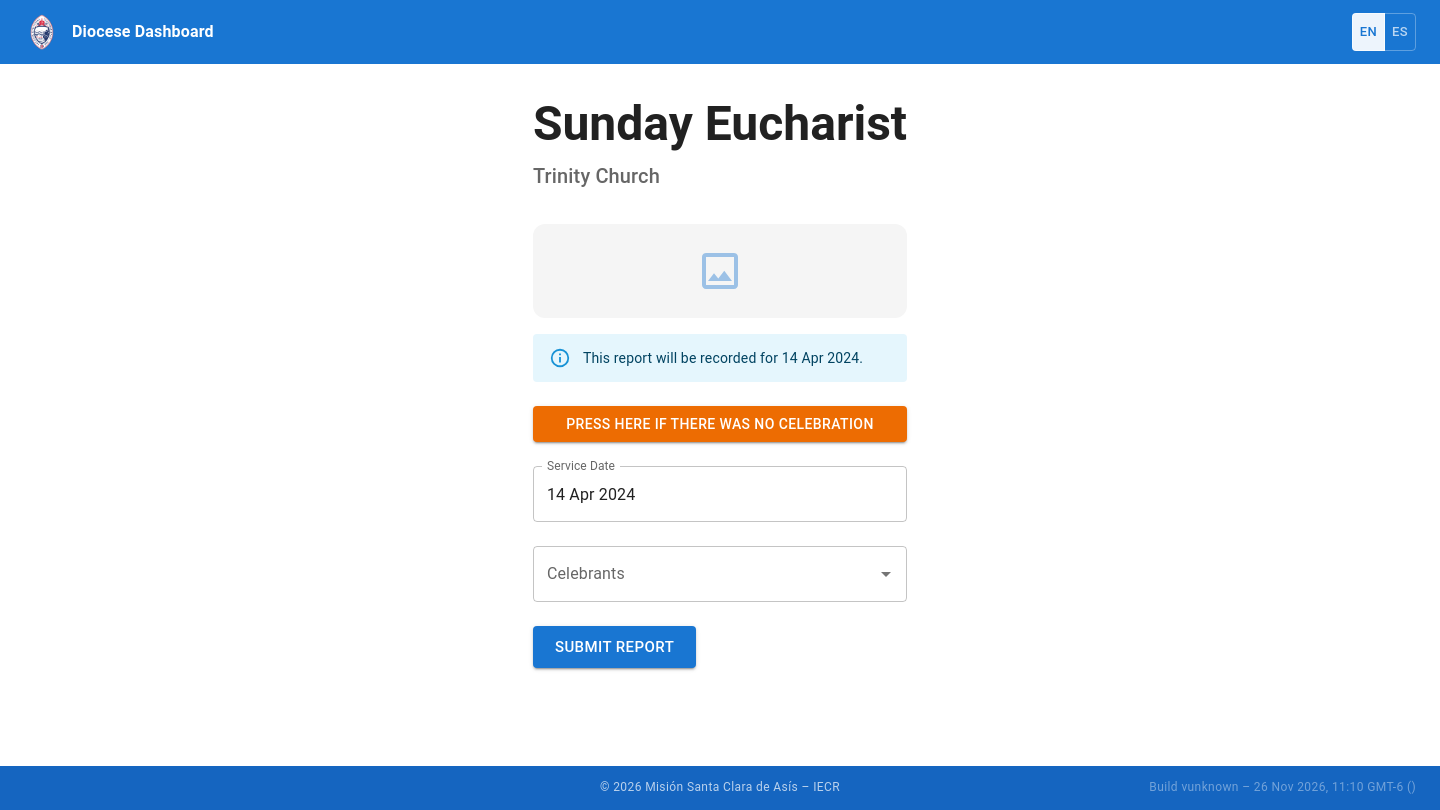
Test case: ReporterLinkPage › offers the next pending reporter link after a public submission
Check: the heading "Sunday Eucharist" is shown, box [533, 96, 907, 152]
Click the button "Submit Report".
click(615, 647)  # box [533, 626, 696, 668]
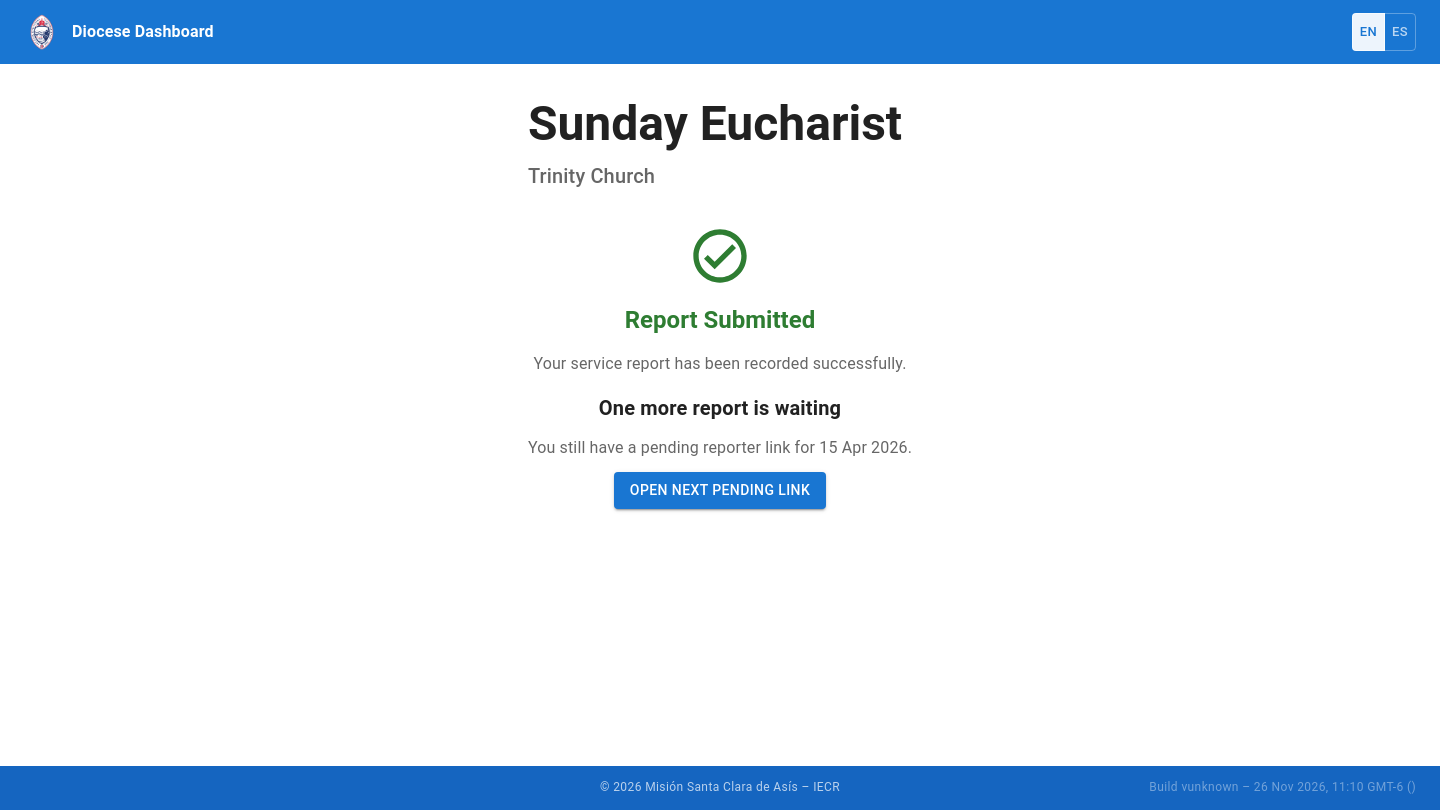
Check: the button "Open Next Pending Link" is shown, box [614, 472, 826, 508]
